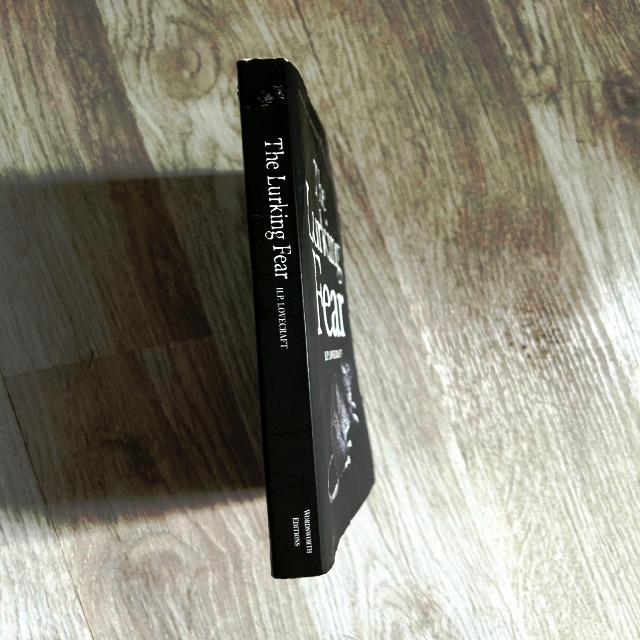Book: (239, 58, 372, 578)
